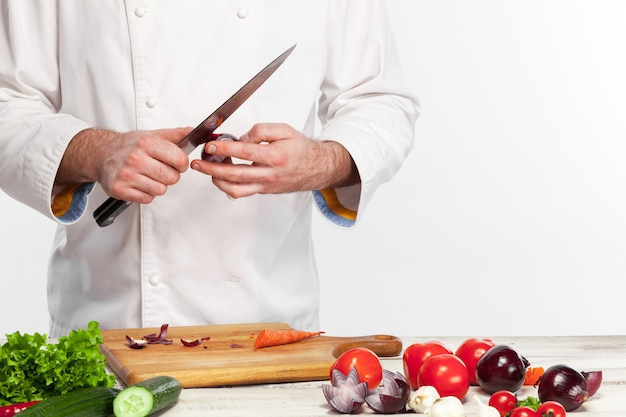knife: (91, 41, 297, 227)
